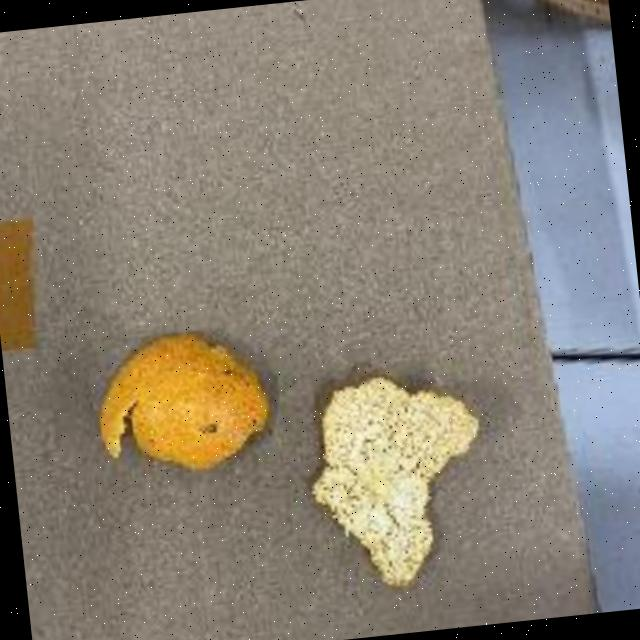orange-peel: (86, 318, 278, 482)
